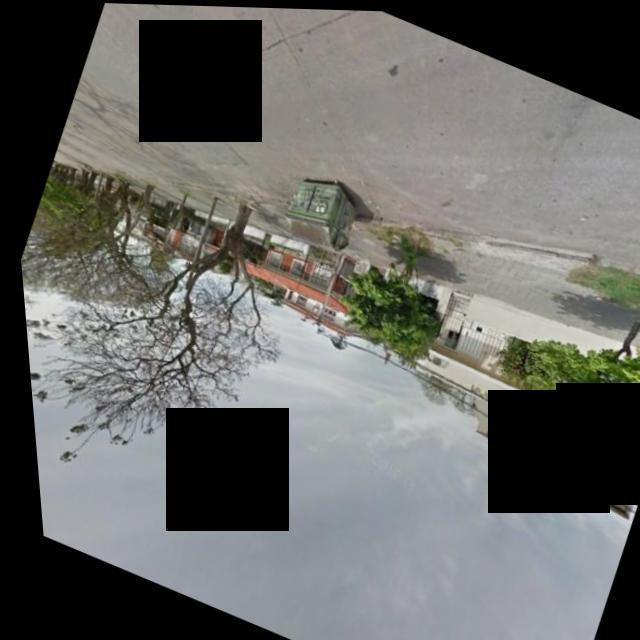bin: (265, 157, 379, 266)
